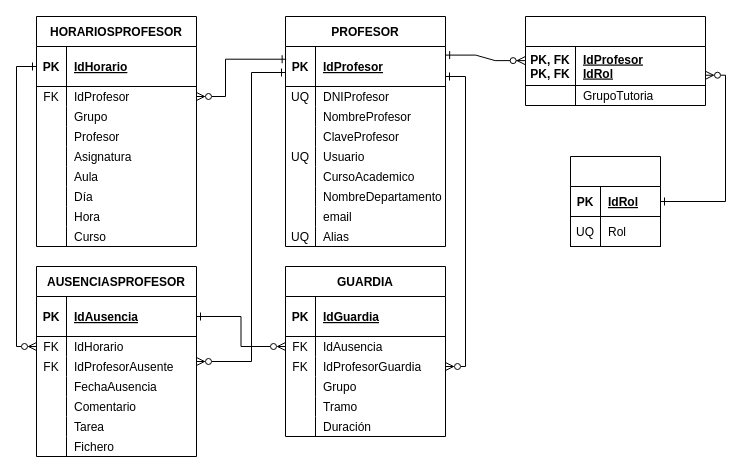
Some shapes in this 742 by 473 pixel diagram are drawn without their labels. Each missing label, with the box of its shape:
PROFESORROLES: (524, 16, 706, 106)
ROLES: (570, 156, 660, 246)
